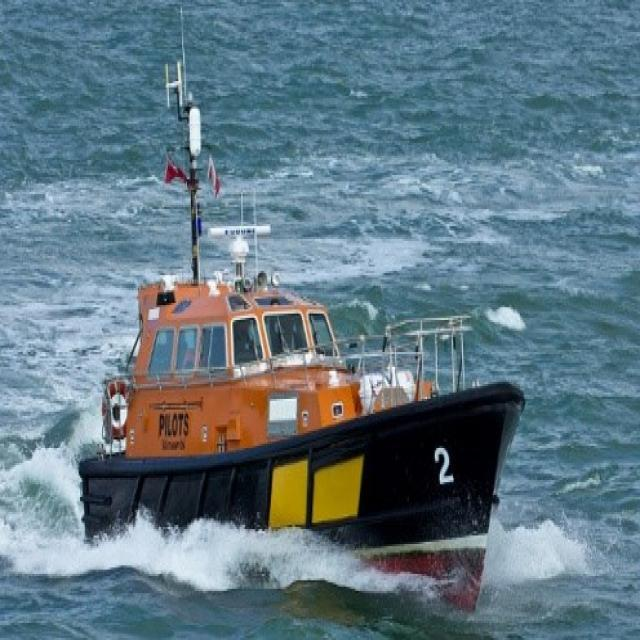houseboat: (64, 54, 520, 607)
